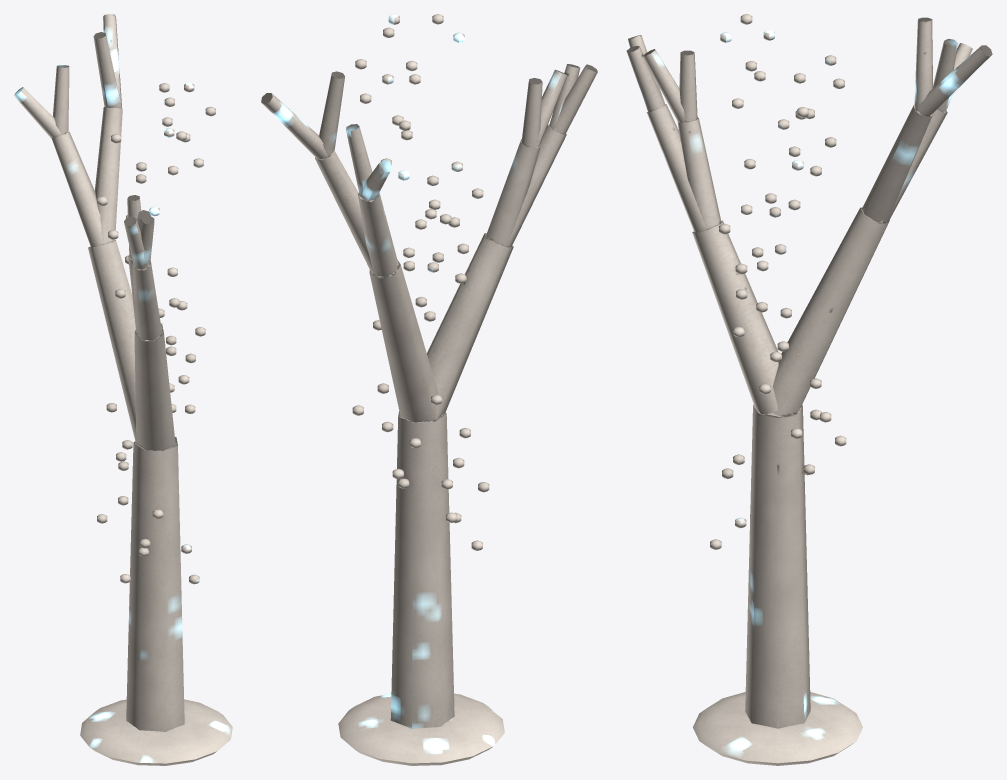
The model's file is keratoisis_flexibilis.glb.
The picture shows the model from 3 angles, left to right: view 1: azimuth 30°, elevation 25°; view 2: azimuth 150°, elevation 25°; view 3: azimuth 270°, elevation 25°; orthographic projection. The views are drawn at different scales.
Visible parts, largest first — view 1: keratoisis_flexibilis; view 2: keratoisis_flexibilis; view 3: keratoisis_flexibilis.
Boxes of the visible parts, x1,y1,x2,y2 form: keratoisis_flexibilis: (14,14,232,765); keratoisis_flexibilis: (261,14,597,765); keratoisis_flexibilis: (626,14,992,765).
Bounding box in the file's own units: 0.2552 × 0.9859 × 0.4491.
1 material, 1 textured.
